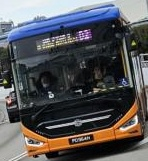bus: (77, 28, 92, 40)
